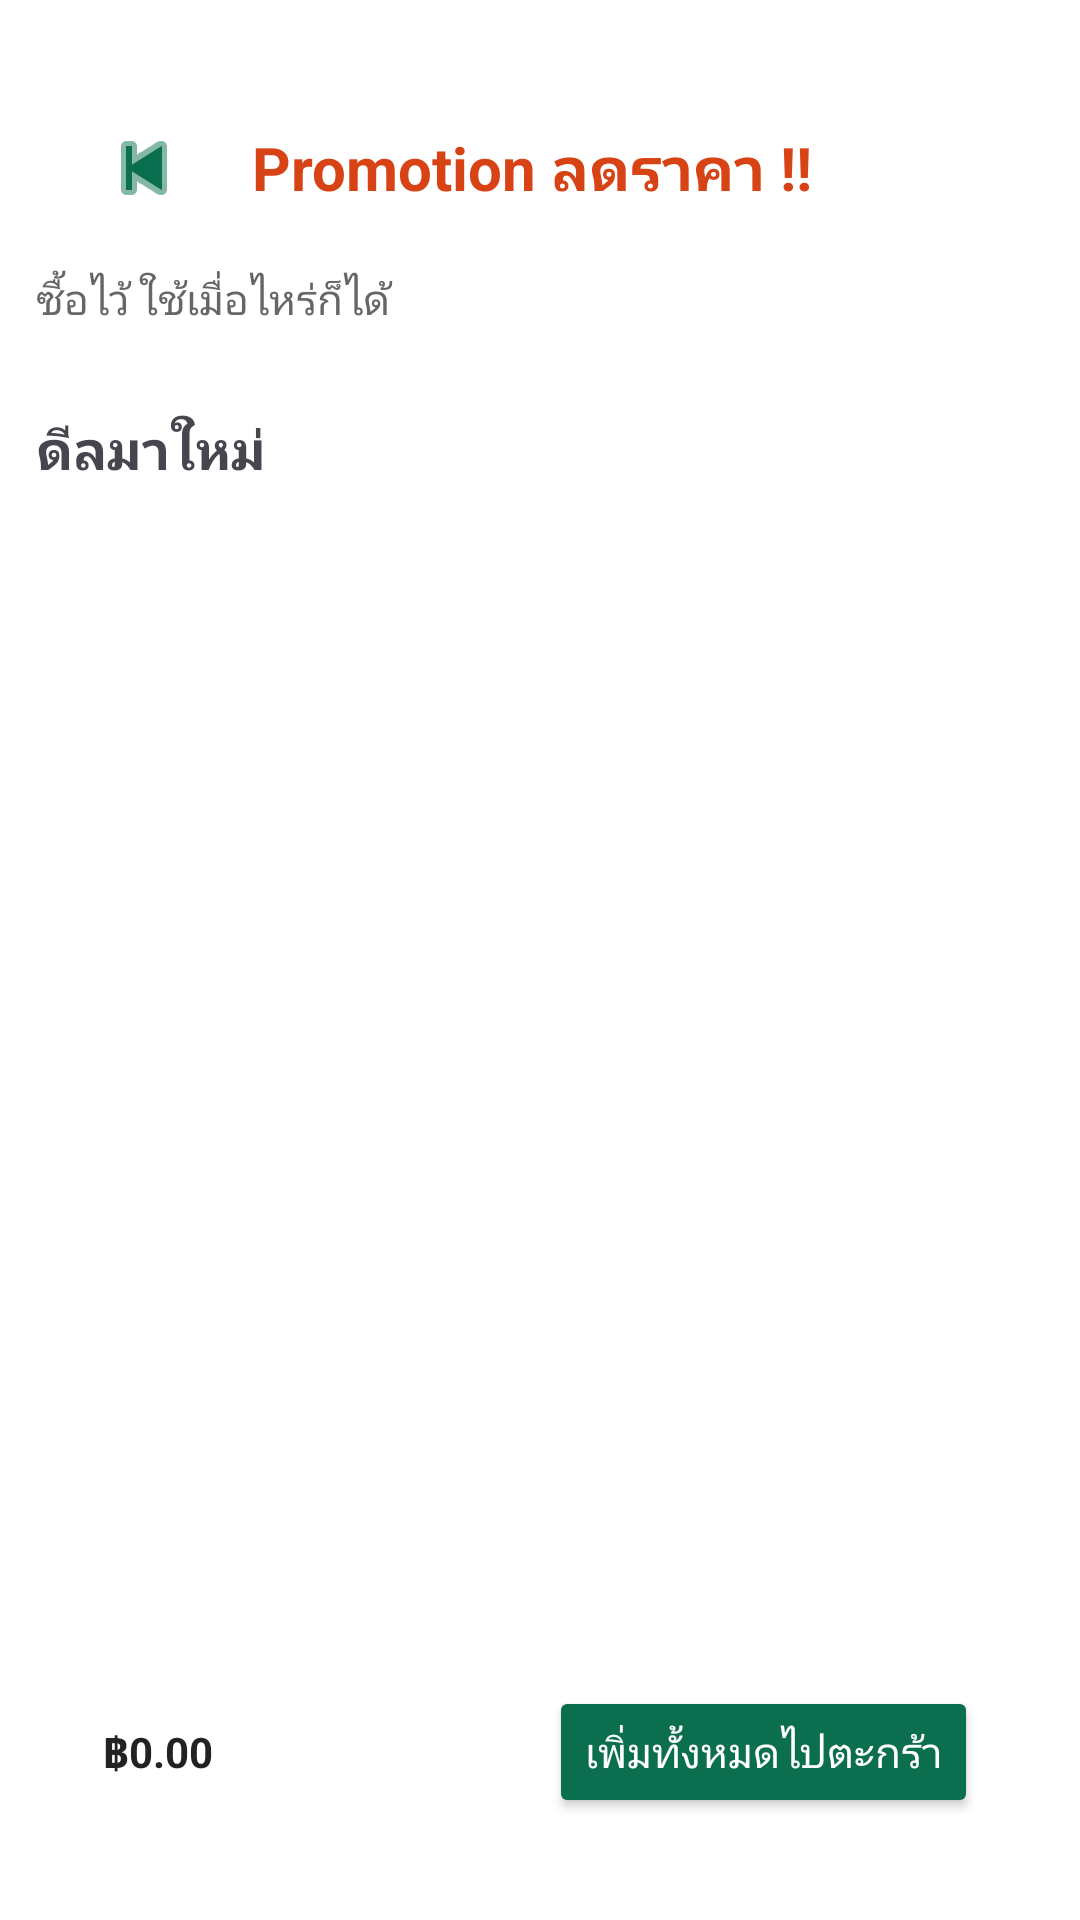

Named icons in this screenshot (1080px x 1920px) and their bounding boxes, (x1, y1, x2, y2):
back: (121, 141, 167, 195)
